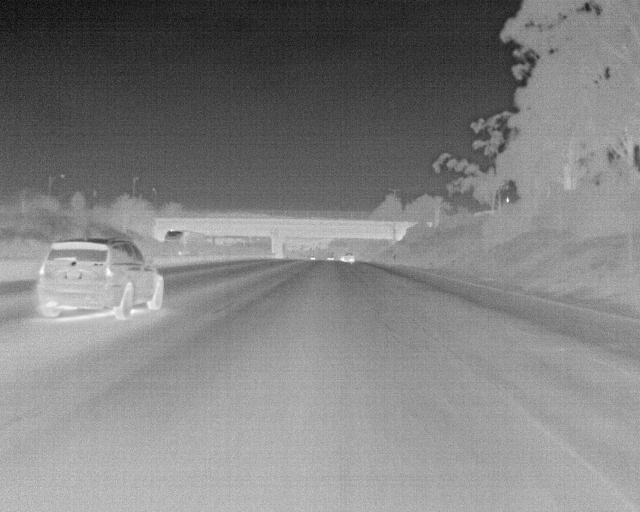car: (36, 236, 166, 318), (339, 251, 358, 266)
